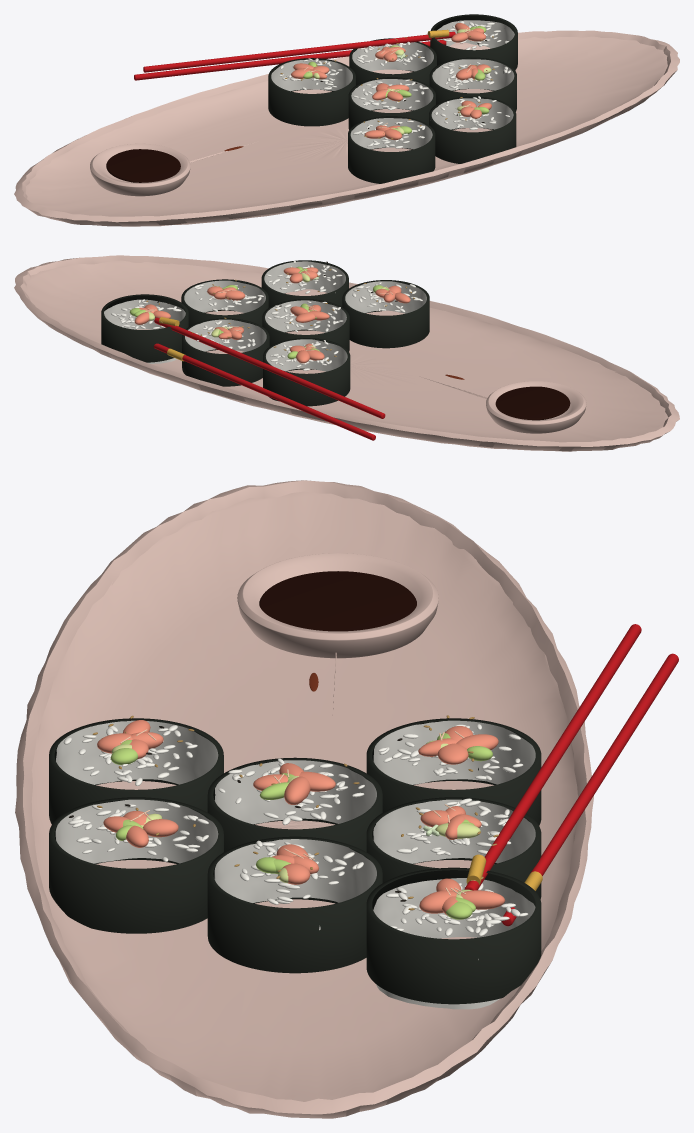
The model's file is REALISTIC_SUSHI_AR3.glb.
3 views of the same model, one above another, from view 1: azimuth 30°, elevation 25°; view 2: azimuth 150°, elevation 25°; view 3: azimuth 270°, elevation 25° (orthographic). The views are drawn at different scales.
Parts seen in each view (by area): view 1: MODERN OVAL CERAMIC PLATE, THIN TOASTED NORI SIDE BAND, THIN TOASTED NORI SIDE BAND.005, THIN TOASTED NORI SIDE BAND.006, MODERN CERAMIC SOY BOWL, DARK SOY SAUCE LIQUID, RED LACQUER CHOPSTICK, THIN TOASTED NORI SIDE BAND.002, VISIBLE WHITE RICE.006, VISIBLE WHITE RICE.004, VISIBLE WHITE RICE.005, VISIBLE WHITE RICE (+7 smaller); view 2: MODERN OVAL CERAMIC PLATE, THIN TOASTED NORI SIDE BAND.005, THIN TOASTED NORI SIDE BAND.002, THIN TOASTED NORI SIDE BAND, MODERN CERAMIC SOY BOWL, THIN TOASTED NORI SIDE BAND.001, DARK SOY SAUCE LIQUID, RED LACQUER CHOPSTICK, VISIBLE WHITE RICE.004, VISIBLE WHITE RICE.005, VISIBLE WHITE RICE, RED LACQUER CHOPSTICK.001 (+7 smaller); view 3: MODERN OVAL CERAMIC PLATE, THIN TOASTED NORI SIDE BAND.002, THIN TOASTED NORI SIDE BAND.004, THIN TOASTED NORI SIDE BAND.006, MODERN CERAMIC SOY BOWL, DARK SOY SAUCE LIQUID, VISIBLE WHITE RICE.004, VISIBLE WHITE RICE.006, VISIBLE WHITE RICE.005, VISIBLE WHITE RICE, VISIBLE WHITE RICE.003, VISIBLE WHITE RICE.001 (+7 smaller).
Part boxes in pixels (left/top/right/bottom): MODERN OVAL CERAMIC PLATE: left=14, top=30, right=679, bottom=226; THIN TOASTED NORI SIDE BAND: left=268, top=58, right=355, bottom=126; THIN TOASTED NORI SIDE BAND.005: left=348, top=116, right=435, bottom=183; THIN TOASTED NORI SIDE BAND.006: left=429, top=96, right=516, bottom=163; MODERN CERAMIC SOY BOWL: left=90, top=142, right=254, bottom=196; DARK SOY SAUCE LIQUID: left=106, top=149, right=180, bottom=182; RED LACQUER CHOPSTICK: left=143, top=31, right=455, bottom=72; THIN TOASTED NORI SIDE BAND.002: left=430, top=14, right=517, bottom=70; VISIBLE WHITE RICE.006: left=431, top=98, right=513, bottom=129; VISIBLE WHITE RICE.004: left=432, top=59, right=514, bottom=90; VISIBLE WHITE RICE.005: left=350, top=118, right=432, bottom=149; VISIBLE WHITE RICE: left=271, top=59, right=352, bottom=91; MODERN OVAL CERAMIC PLATE: left=14, top=255, right=679, bottom=451; THIN TOASTED NORI SIDE BAND.005: left=342, top=280, right=429, bottom=348; THIN TOASTED NORI SIDE BAND.002: left=101, top=294, right=188, bottom=362; THIN TOASTED NORI SIDE BAND: left=263, top=338, right=350, bottom=406; MODERN CERAMIC SOY BOWL: left=423, top=377, right=586, bottom=433; THIN TOASTED NORI SIDE BAND.001: left=182, top=318, right=269, bottom=386; DARK SOY SAUCE LIQUID: left=495, top=386, right=570, bottom=420; RED LACQUER CHOPSTICK: left=154, top=317, right=385, bottom=418; VISIBLE WHITE RICE.004: left=184, top=280, right=265, bottom=312; VISIBLE WHITE RICE.005: left=345, top=281, right=426, bottom=313; VISIBLE WHITE RICE: left=266, top=339, right=347, bottom=371; RED LACQUER CHOPSTICK.001: left=153, top=343, right=375, bottom=440; MODERN OVAL CERAMIC PLATE: left=15, top=480, right=593, bottom=1118; THIN TOASTED NORI SIDE BAND.002: left=366, top=867, right=541, bottom=1004; THIN TOASTED NORI SIDE BAND.004: left=207, top=836, right=382, bottom=973; THIN TOASTED NORI SIDE BAND.006: left=49, top=797, right=223, bottom=933; MODERN CERAMIC SOY BOWL: left=237, top=553, right=438, bottom=715; DARK SOY SAUCE LIQUID: left=259, top=571, right=416, bottom=631; VISIBLE WHITE RICE.004: left=214, top=839, right=376, bottom=930; VISIBLE WHITE RICE.006: left=55, top=799, right=218, bottom=863; VISIBLE WHITE RICE.005: left=56, top=720, right=218, bottom=784; VISIBLE WHITE RICE: left=373, top=720, right=535, bottom=784; VISIBLE WHITE RICE.003: left=214, top=760, right=376, bottom=824; VISIBLE WHITE RICE.001: left=373, top=799, right=535, bottom=863.
Bounding box in the file's own units: 8.04 × 0.6243 × 3.55.
